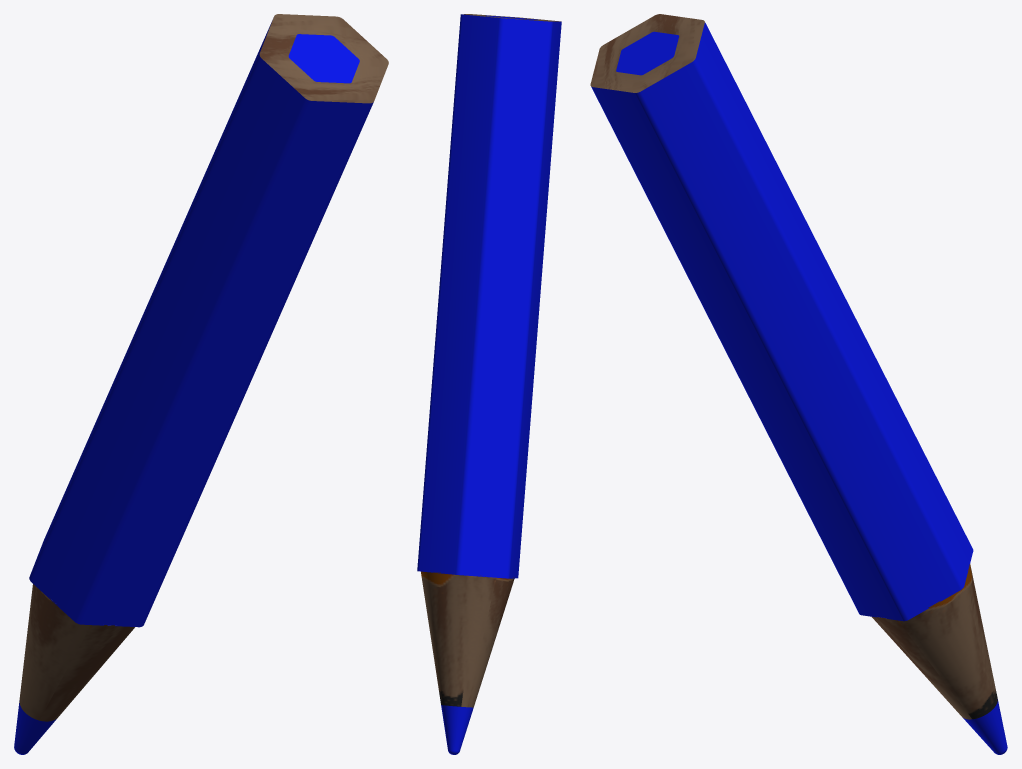
The picture shows the model from 3 angles, left to right: view 1: azimuth 30°, elevation 25°; view 2: azimuth 150°, elevation 25°; view 3: azimuth 270°, elevation 25°; orthographic projection. The views are drawn at different scales.
Parts seen in each view (by area): view 1: Da Pencil.003; view 2: Da Pencil.003; view 3: Da Pencil.003.
Boxes of the visible parts, x1,y1,x2,y2 form: Da Pencil.003: (14,14,388,754); Da Pencil.003: (417,14,561,754); Da Pencil.003: (590,14,1007,754).
Size of the model in its own units: 0.3101 by 1.2 by 0.5864.
2 materials, 1 textured.
